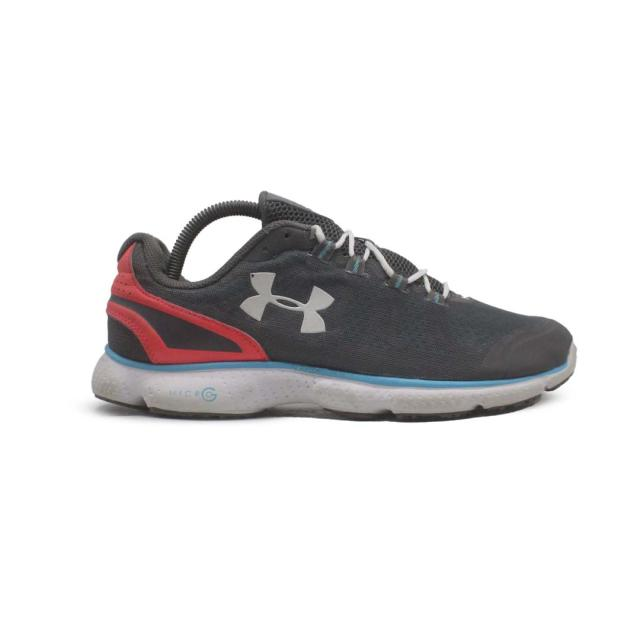heel: (104, 234, 205, 363)
midsole: (92, 336, 574, 421)
uppersole: (203, 190, 565, 378)
